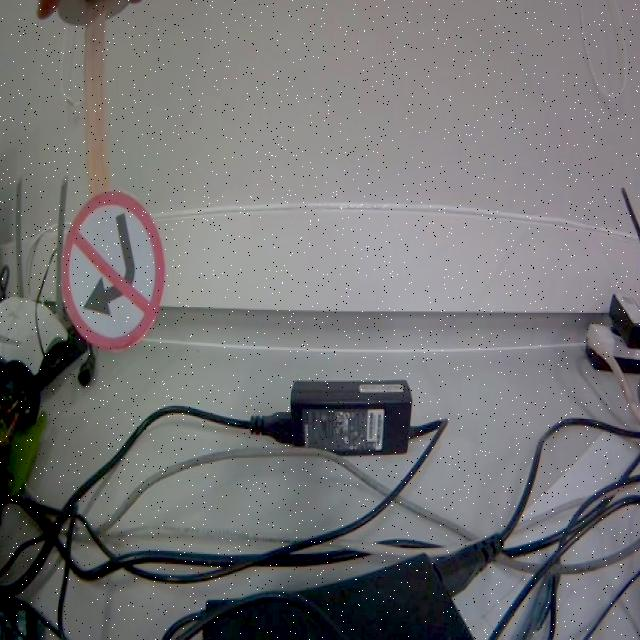Dilarang Belok Kanan: (65, 190, 164, 350)
